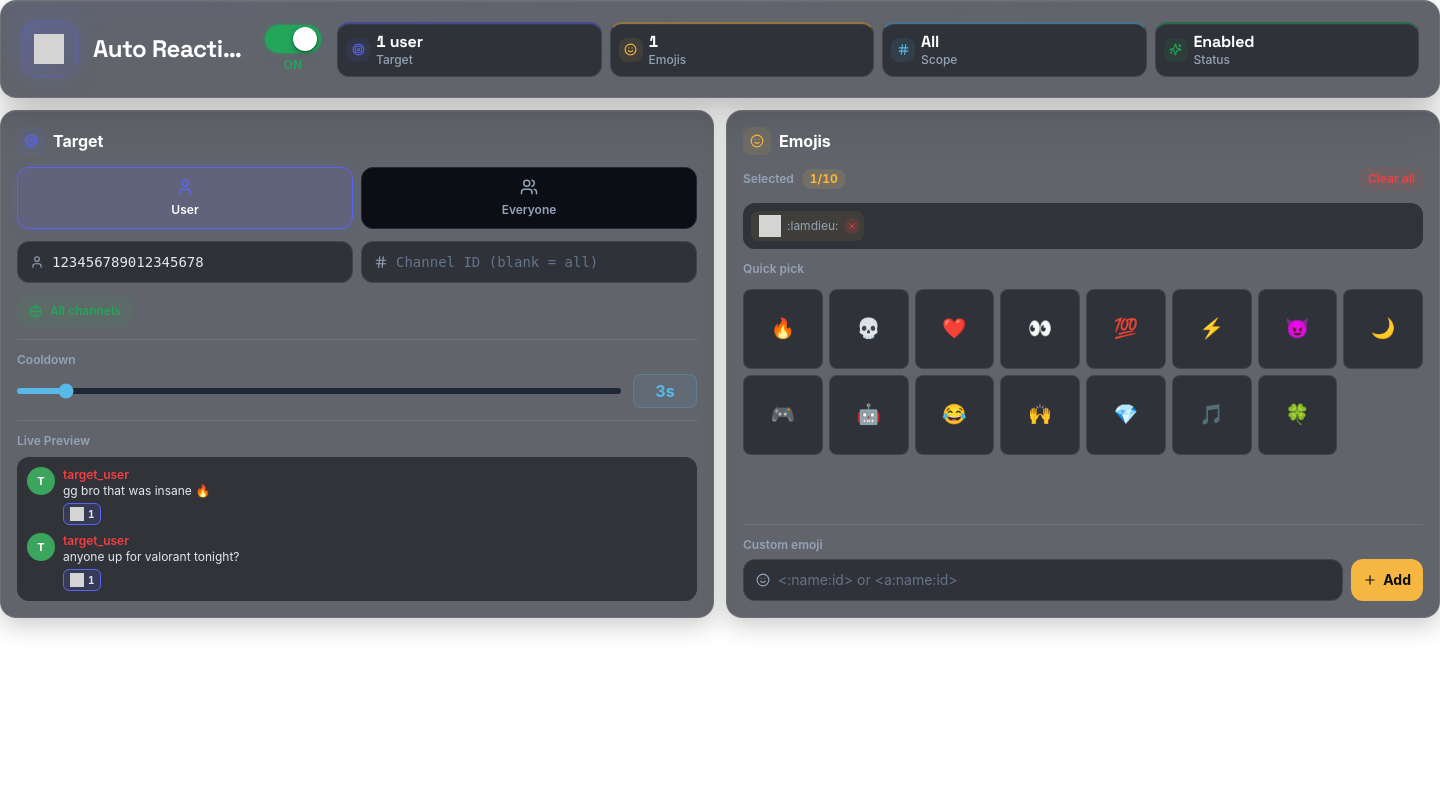
Test: ReactionsFeature emoji palette › does not add the same custom emoji twice
In the field with placeholder "<:name:id> or <a:name:id>": (1054, 580) top-left (778, 560), bottom-right (1330, 600), type "<:lamdieu:1547630841172066410>"
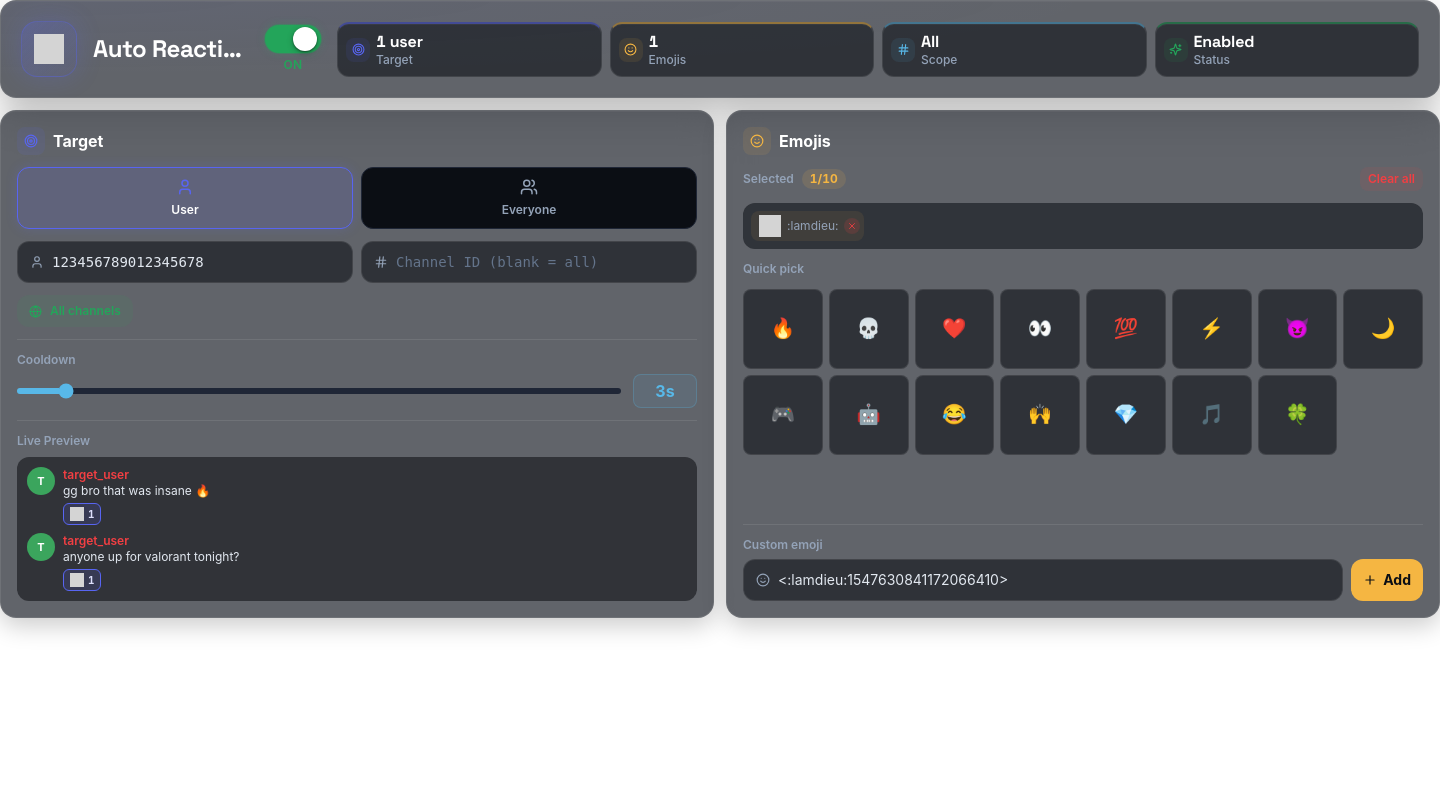
Click the button "Add": (1387, 580) top-left (1351, 559), bottom-right (1423, 601)
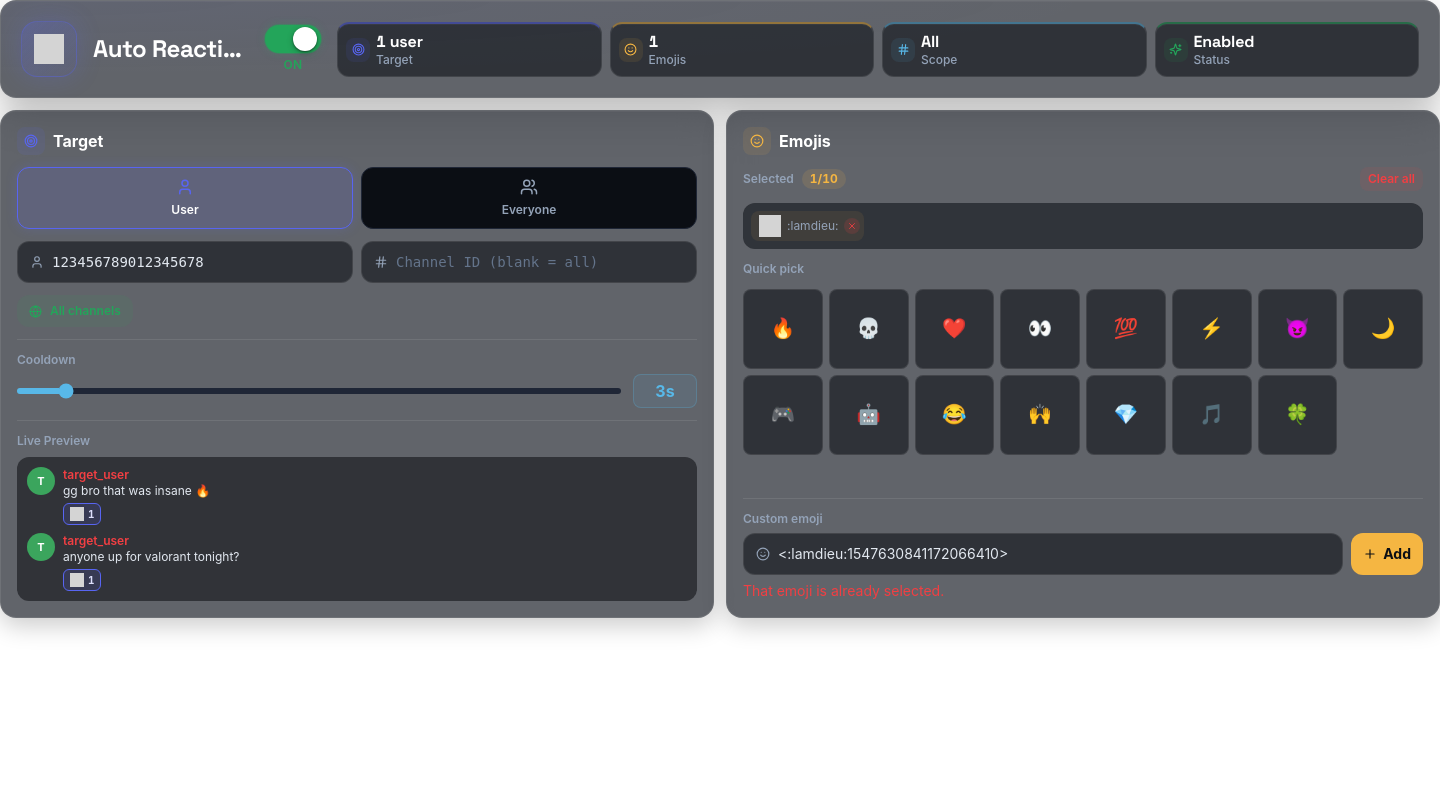
Expected: the text ":lamdieu:" is shown once, top-left (787, 218), bottom-right (838, 234)
Now the text "That emoji is already selected." is shown, box top-left (743, 582), bottom-right (944, 599)
